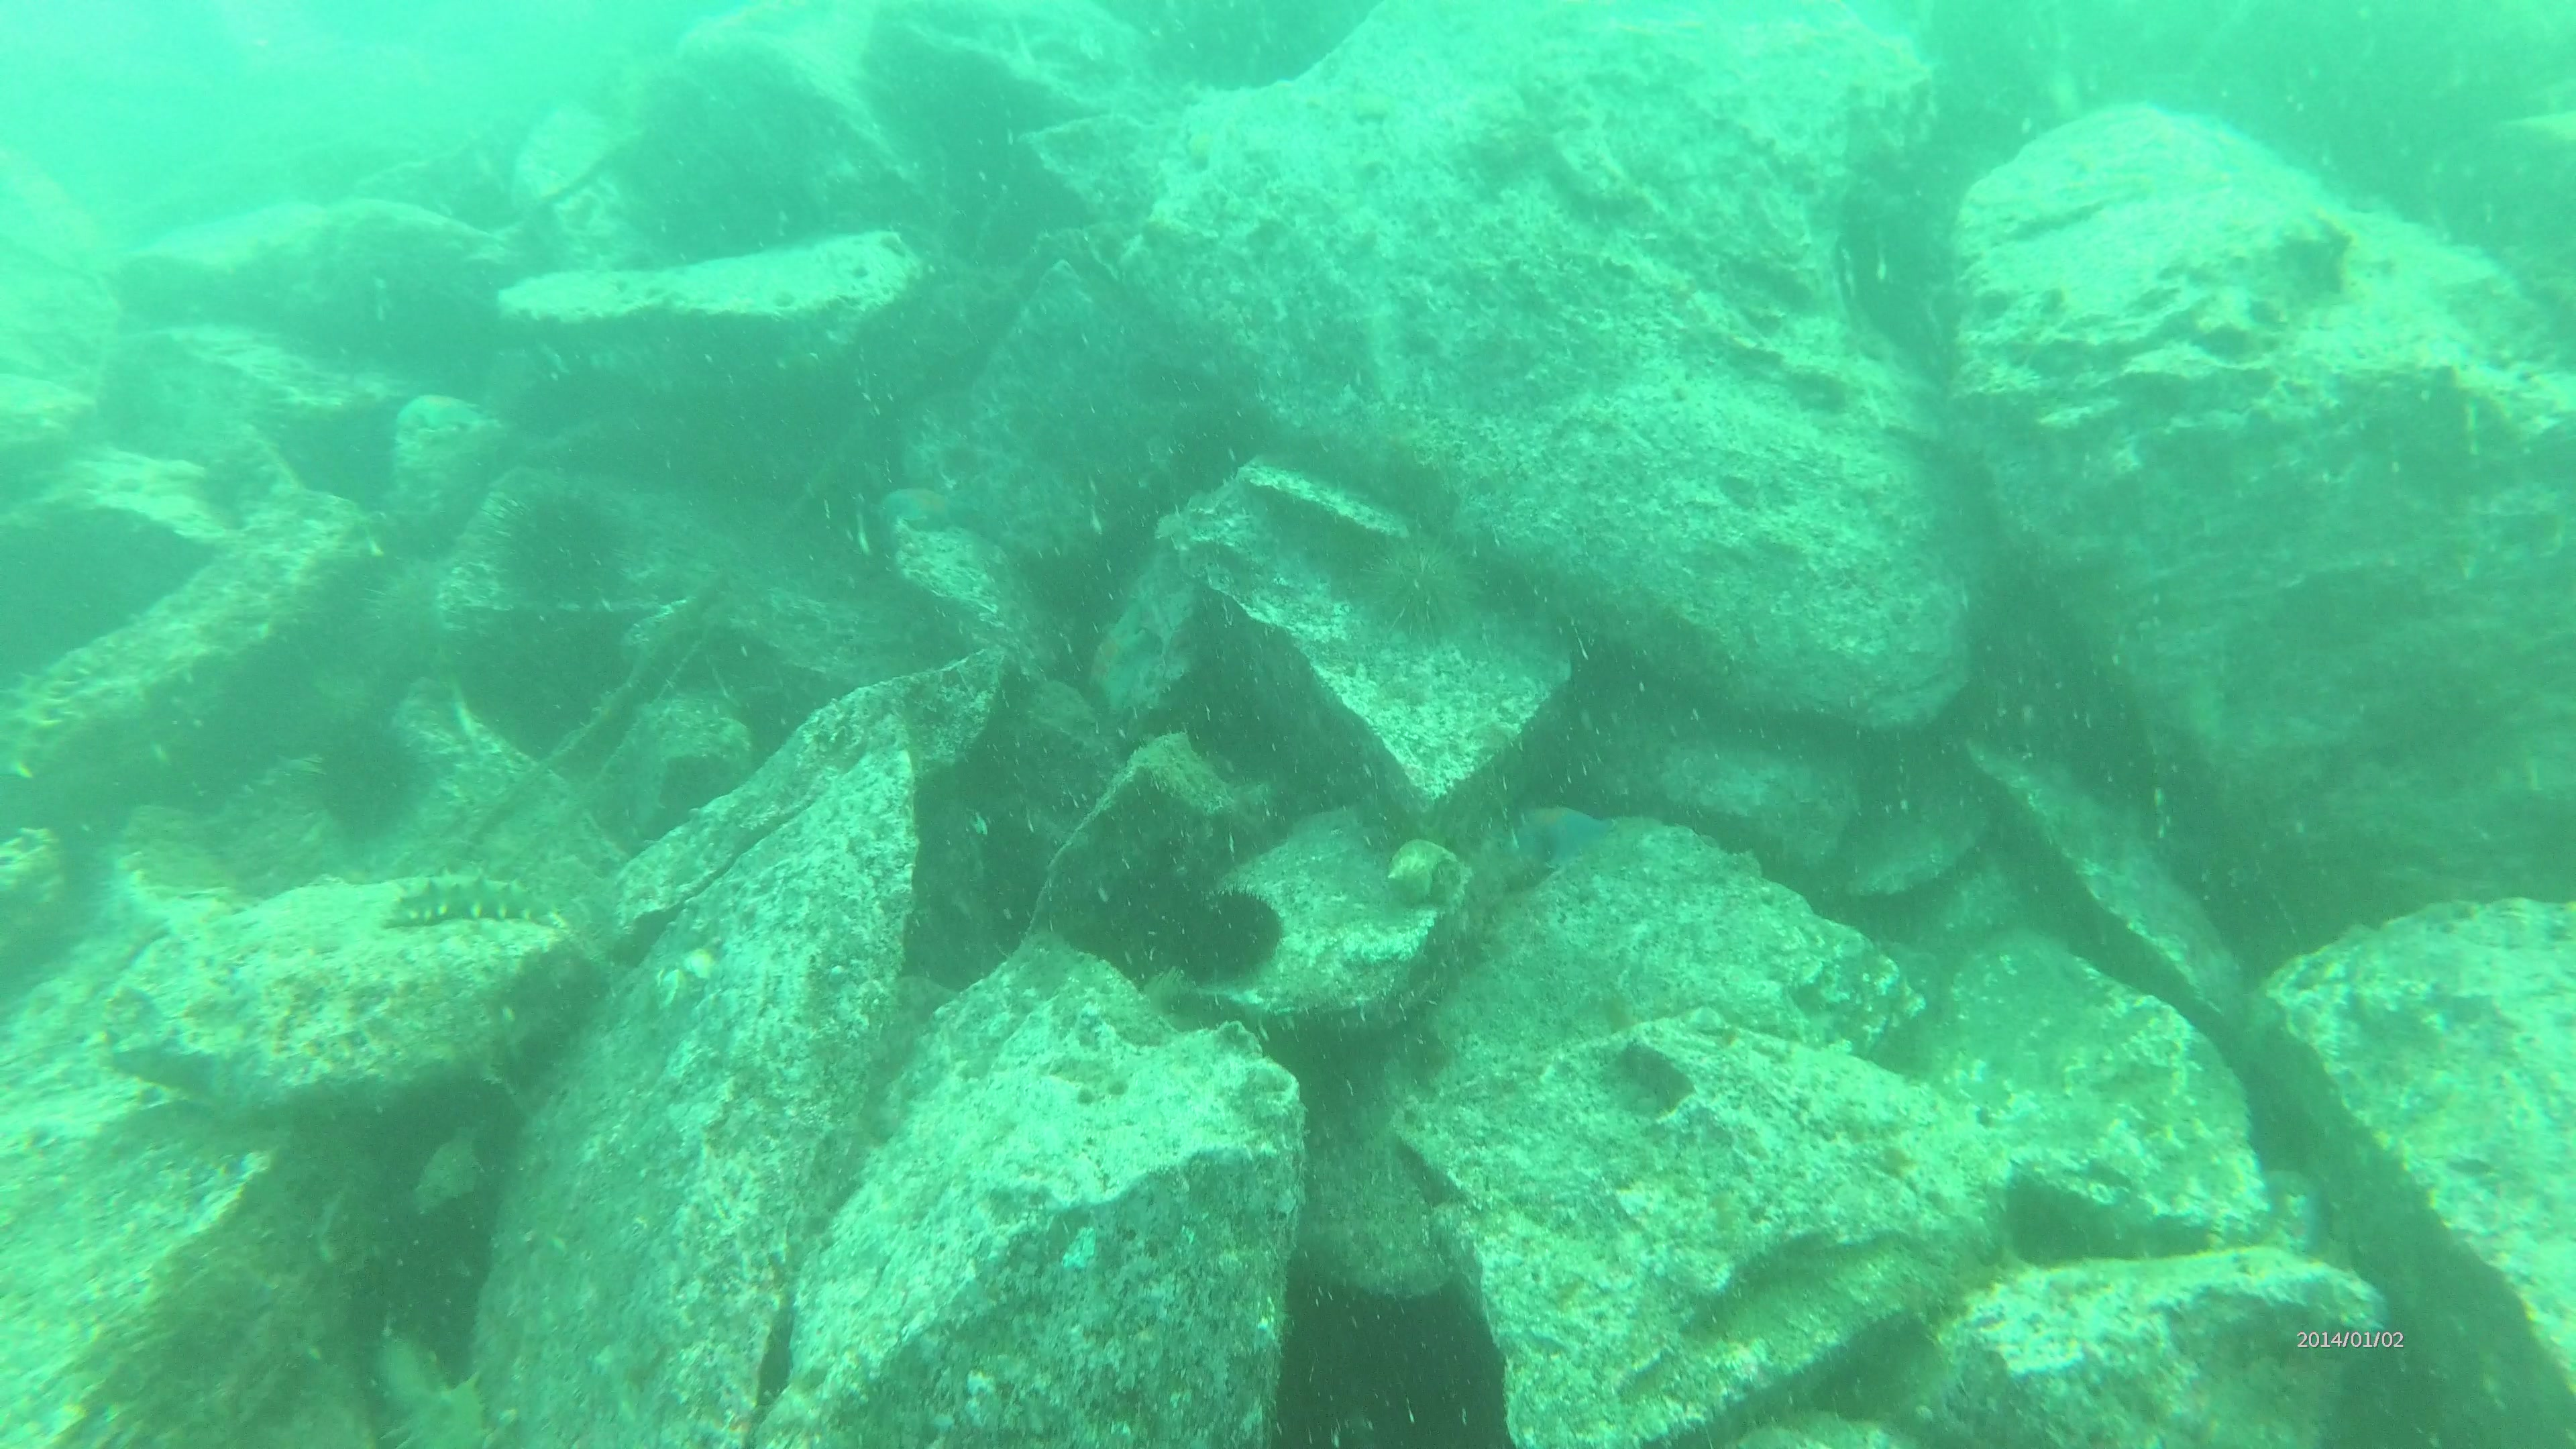echinus: (481, 472, 649, 621), (295, 709, 449, 833), (1152, 883, 1295, 1000), (1350, 529, 1491, 646), (340, 552, 444, 678)
holothurian: (0, 639, 133, 805), (372, 858, 548, 943), (370, 1373, 499, 1449)
starfish: (1499, 789, 1610, 883), (863, 483, 977, 538)
